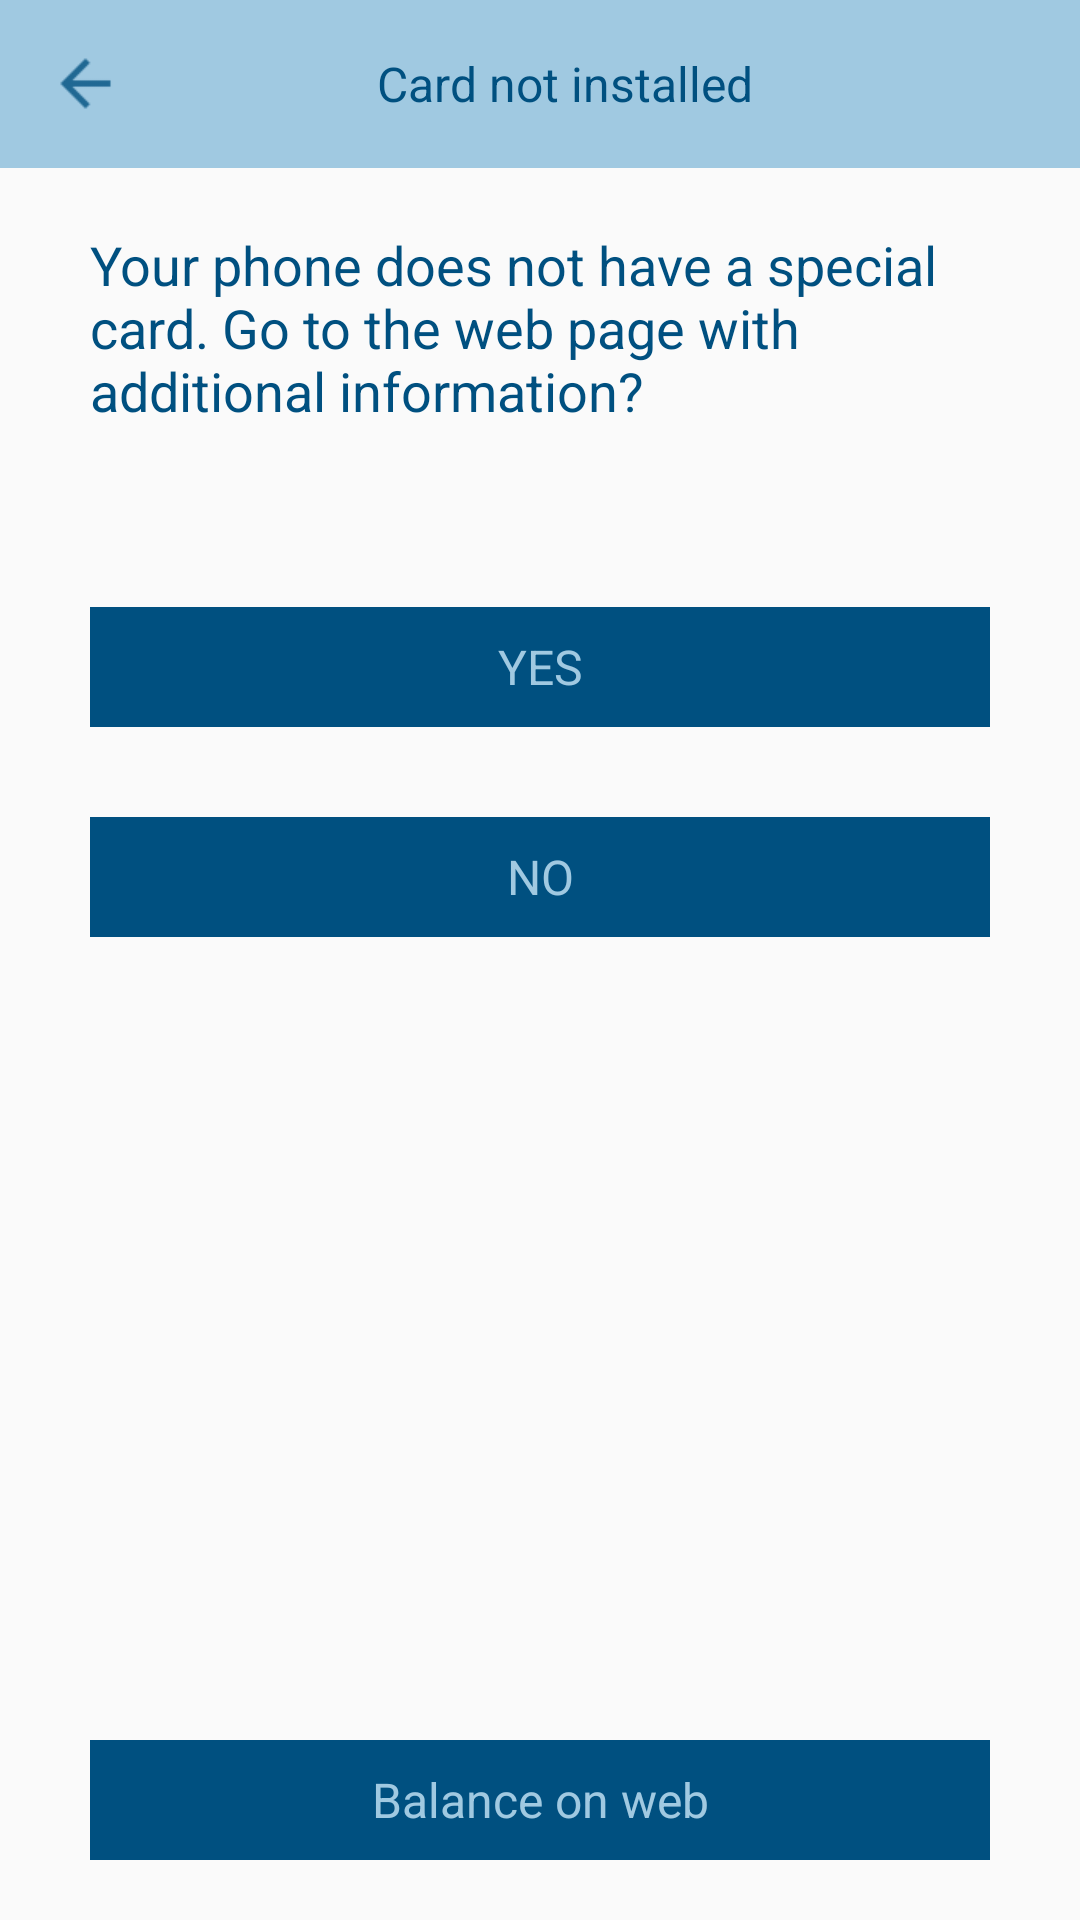

Where to tap for icons on this 1080 x 1920 app screen, as (x,y):
arrow back: (85,83)
